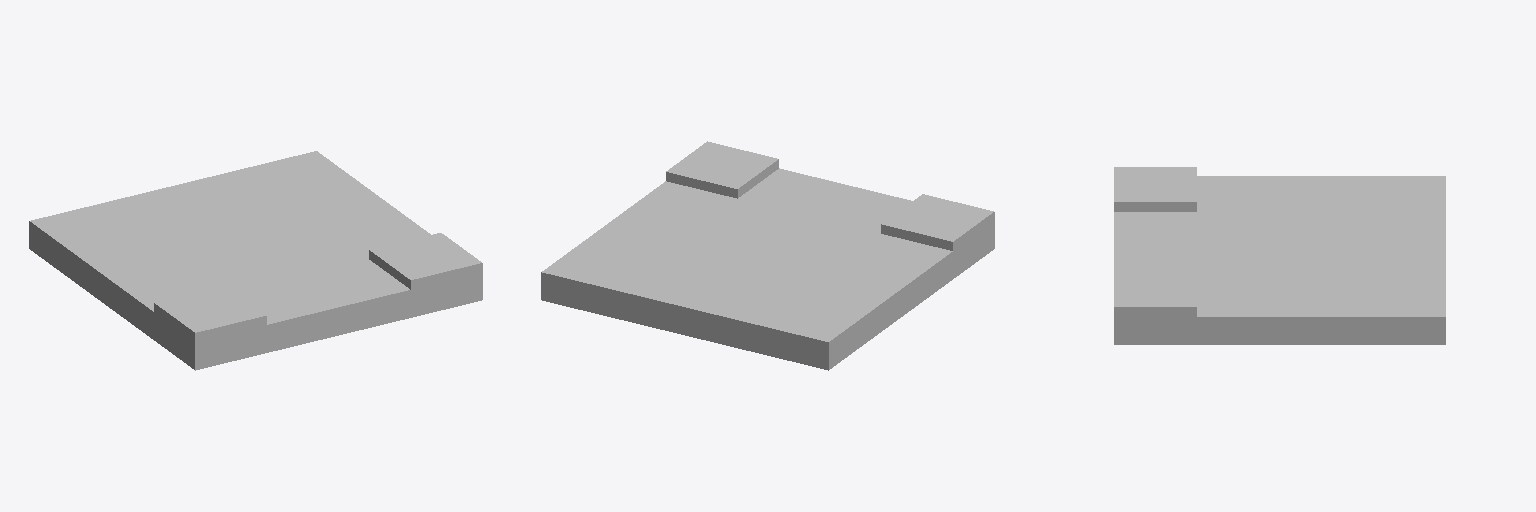
The model's file is road6.obj.
3 views of the same model, side by side, from view 1: azimuth 30°, elevation 25°; view 2: azimuth 150°, elevation 25°; view 3: azimuth 270°, elevation 25° (orthographic).
Parts seen in each view (by area): view 1: object 1; view 2: object 1; view 3: object 1.
Part boxes in pixels (x1,y1,x2,y2): object 1: (29, 151, 482, 370); object 1: (541, 141, 994, 370); object 1: (1114, 167, 1445, 344).
Size of the model in its own units: 3.2 by 0.4 by 3.2.